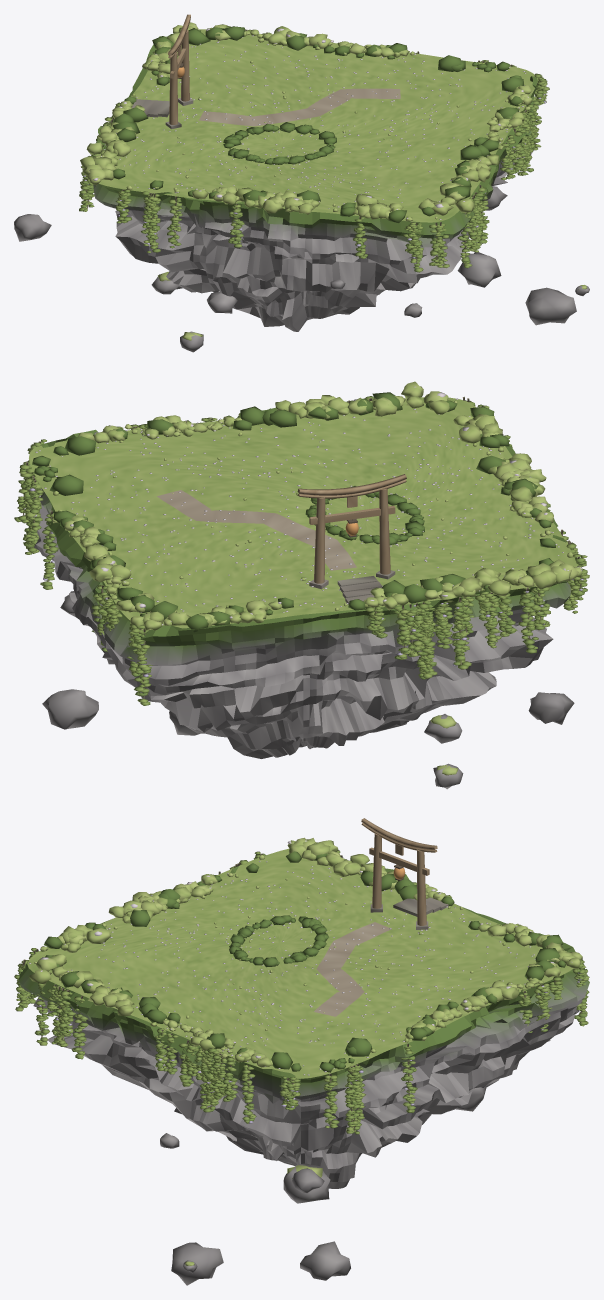
Rendered from meadow.glb.
3 renders of one model, top to bottom at view 1: azimuth 30°, elevation 25°; view 2: azimuth 150°, elevation 25°; view 3: azimuth 270°, elevation 25°, orthographic. The views are drawn at different scales.
Parts seen in each view (by area): view 1: Island, RimShrubs, ScatterRocks, VineLeaves, FloatRock, Path, Flowers, Torii, ToriiSteps; view 2: Island, RimShrubs, VineLeaves, ScatterRocks, FloatRock, Torii, Path, Flowers, ToriiSteps, VineStems; view 3: Island, VineLeaves, RimShrubs, ScatterRocks, FloatRock, Torii, Path, Flowers.
Part boxes in pixels (bbox=[...]): Island: bbox=[93, 29, 537, 331]; RimShrubs: bbox=[80, 22, 532, 221]; ScatterRocks: bbox=[86, 26, 524, 222]; VineLeaves: bbox=[79, 25, 549, 272]; FloatRock: bbox=[14, 186, 589, 352]; Path: bbox=[199, 88, 400, 126]; Flowers: bbox=[104, 35, 526, 219]; Torii: bbox=[165, 14, 193, 129]; ToriiSteps: bbox=[132, 99, 169, 117]; Island: bbox=[29, 397, 576, 758]; RimShrubs: bbox=[52, 381, 582, 630]; VineLeaves: bbox=[14, 396, 589, 705]; ScatterRocks: bbox=[32, 392, 566, 632]; FloatRock: bbox=[42, 591, 574, 789]; Torii: bbox=[297, 474, 406, 589]; Path: bbox=[157, 490, 356, 570]; Flowers: bbox=[35, 398, 563, 625]; ToriiSteps: bbox=[337, 576, 382, 604]; VineStems: bbox=[23, 396, 581, 699]; Island: bbox=[18, 848, 589, 1188]; VineLeaves: bbox=[14, 850, 589, 1134]; RimShrubs: bbox=[28, 837, 582, 1067]; ScatterRocks: bbox=[44, 851, 565, 1072]; FloatRock: bbox=[160, 1086, 486, 1285]; Torii: bbox=[361, 818, 437, 929]; Path: bbox=[314, 922, 391, 1016]; Flowers: bbox=[29, 861, 535, 1075].
Bounding box in the file's own units: 30.34 × 17.19 × 29.25.
